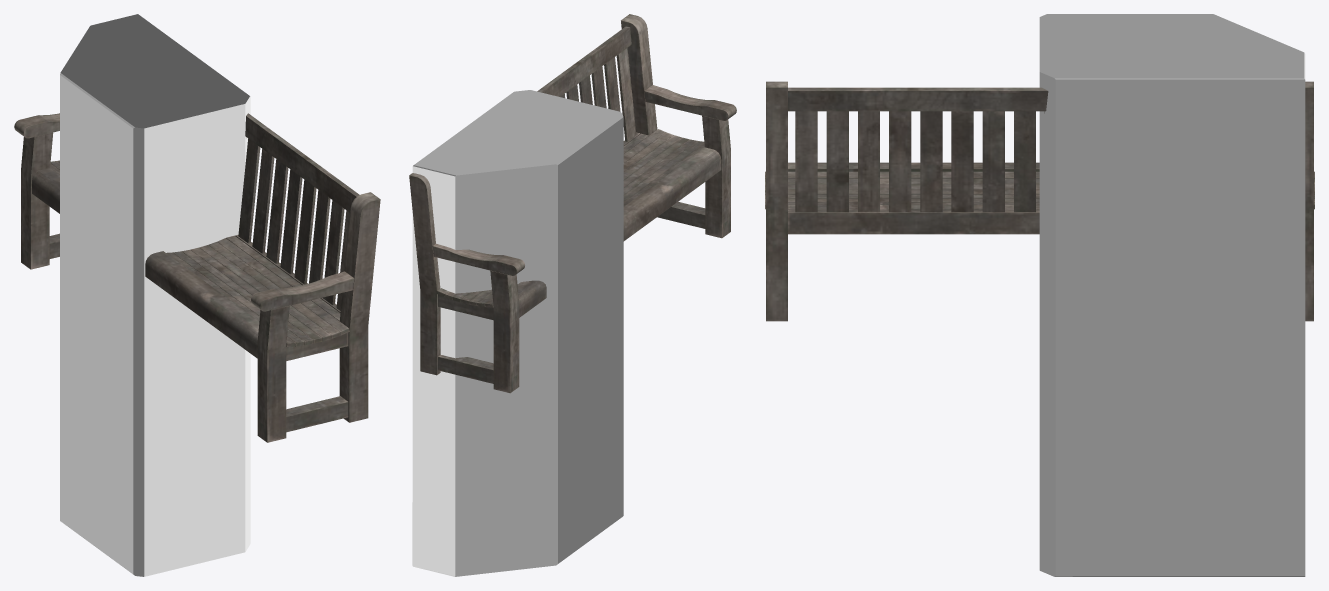
The model's file is SM_Bench_01.fbx.
3 renders of one model, left to right at view 1: azimuth 30°, elevation 25°; view 2: azimuth 150°, elevation 25°; view 3: azimuth 270°, elevation 25°, orthographic. The views are drawn at different scales.
Parts seen in each view (by area): view 1: SM_Bench_01_ConvexHulls, SM_Bench_01_LOD0; view 2: SM_Bench_01_ConvexHulls, SM_Bench_01_LOD0; view 3: SM_Bench_01_ConvexHulls, SM_Bench_01_LOD0.
Part boxes in pixels (box(x1,y1,x2,y2)): SM_Bench_01_ConvexHulls: box(60, 14, 250, 576); SM_Bench_01_LOD0: box(14, 113, 380, 442); SM_Bench_01_ConvexHulls: box(412, 90, 623, 576); SM_Bench_01_LOD0: box(409, 14, 736, 393); SM_Bench_01_ConvexHulls: box(1039, 14, 1305, 576); SM_Bench_01_LOD0: box(765, 81, 1314, 321).
Size of the model in its own units: 58.71 by 209 by 209.
